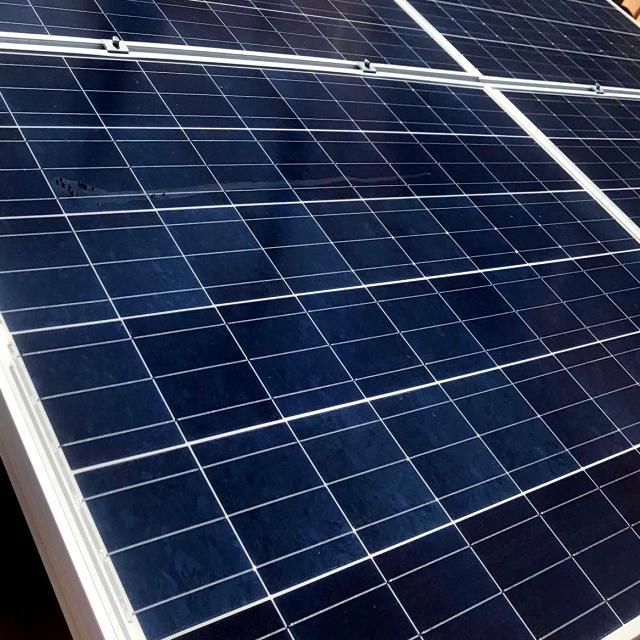dust: (6, 63, 236, 357), (272, 78, 464, 398), (166, 442, 532, 566)
